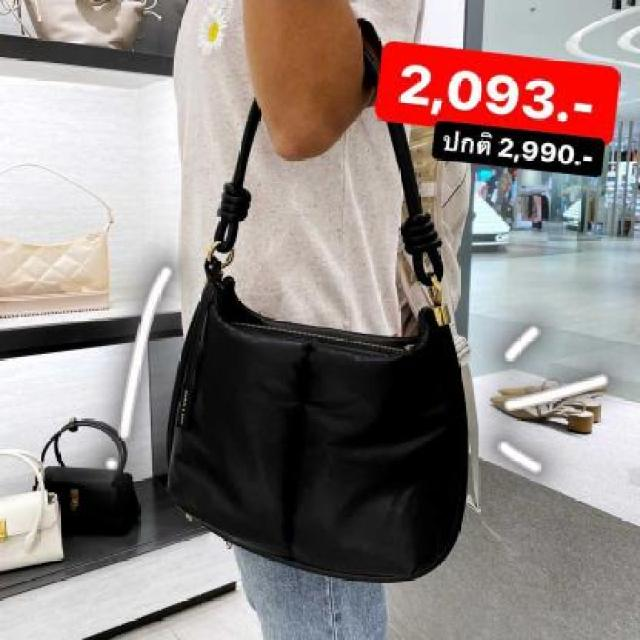Bag: (157, 7, 505, 602), (24, 422, 150, 542), (0, 446, 65, 588)
